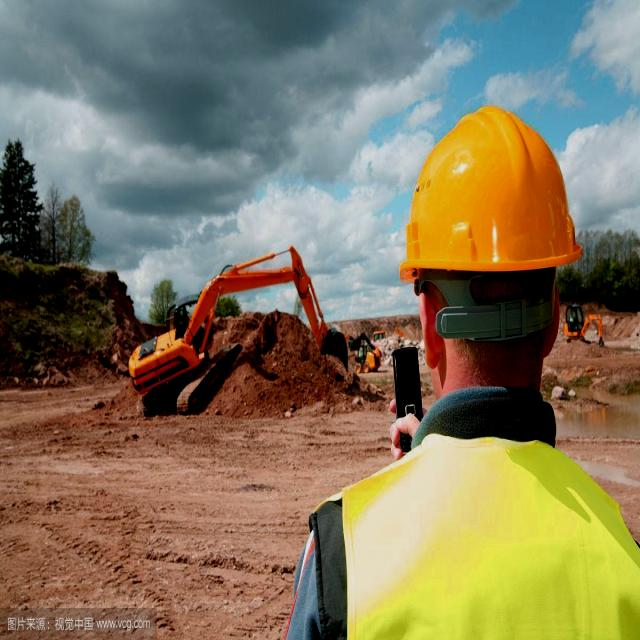head_helmet: (396, 105, 582, 277)
person: (283, 102, 640, 640)
